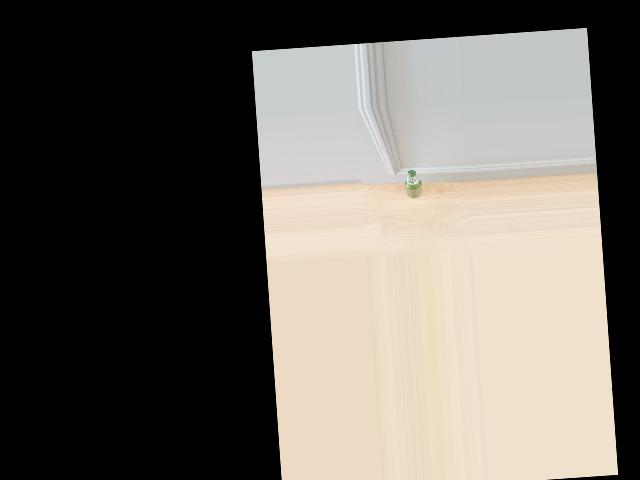beer: (403, 169, 422, 198)
